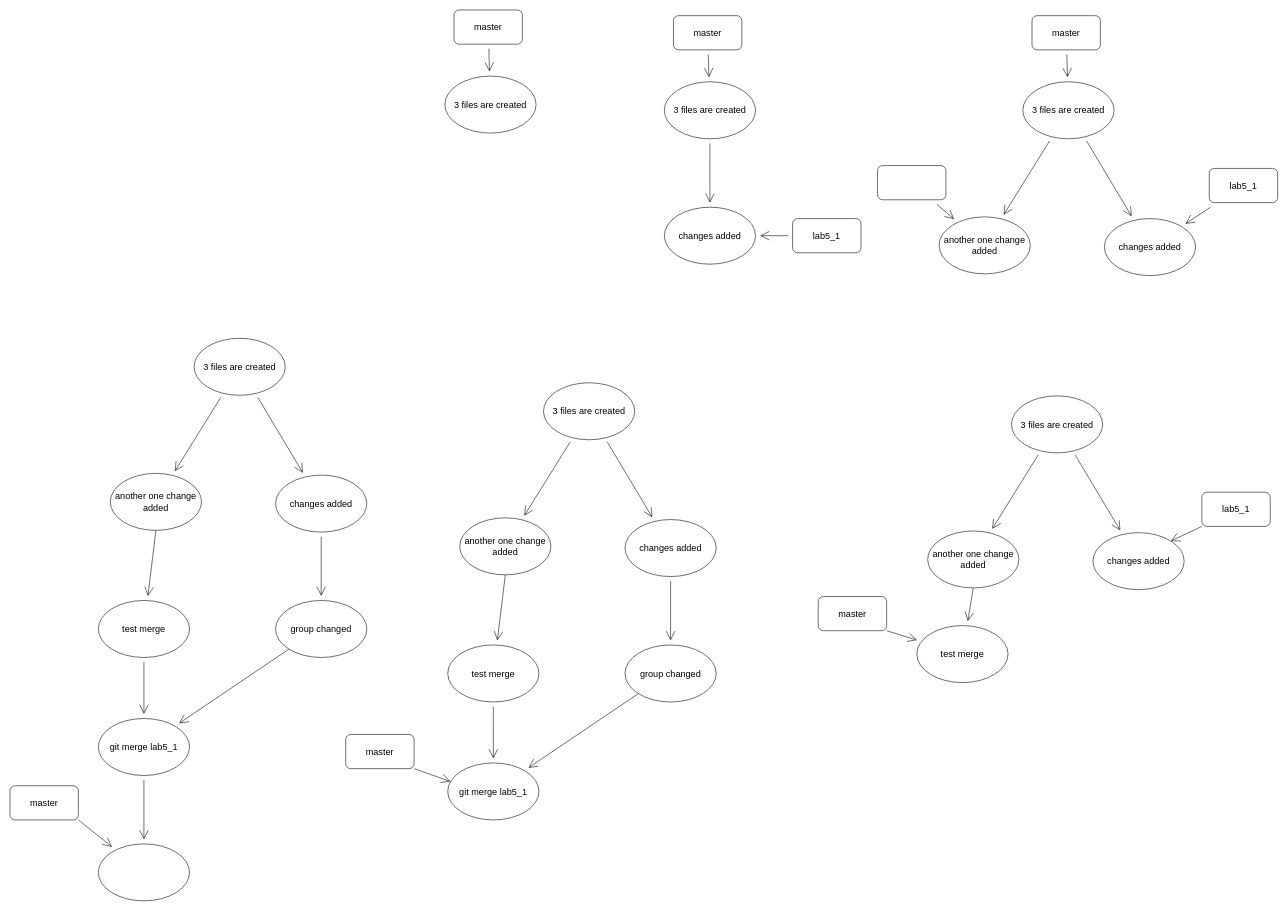
Some shapes in this 1288 by 911 pixel diagram are drawn without their labels. The centre of each missing label's shape, as x and y in pixels:
"lab5_2" goes at point 911,182.
"otchet added" goes at point 144,872.
